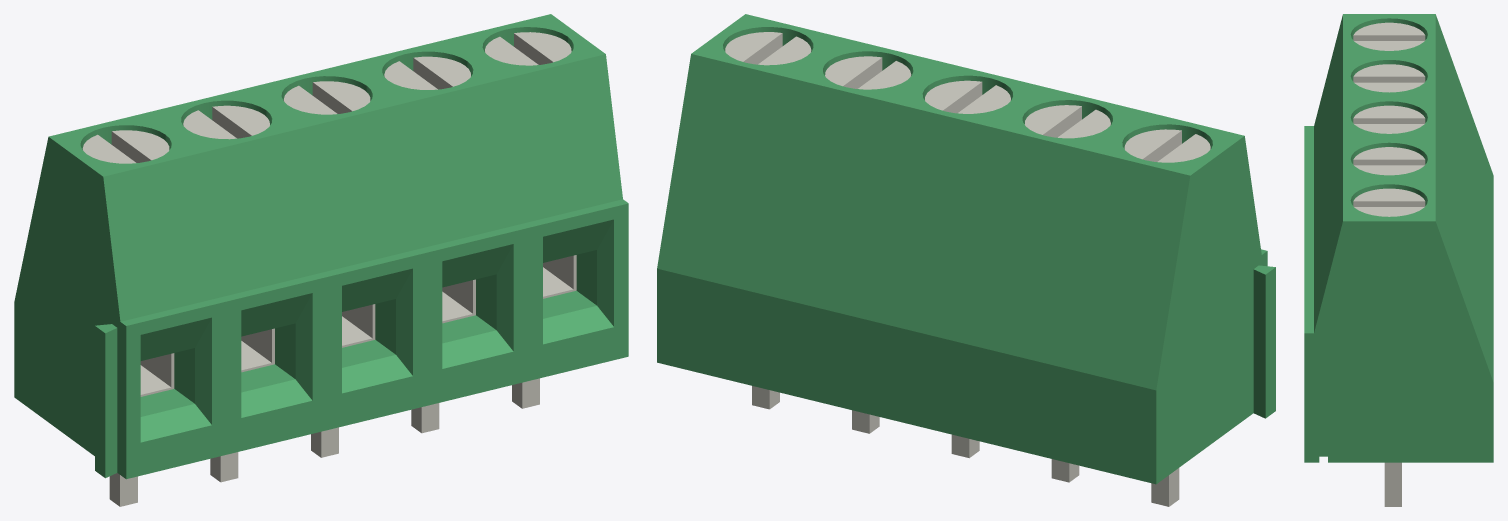
The model's file is kc-terminalblock_phoenix_mkds-1_5-5-5.08_1x05_p5.08mm_horizontal.glb.
The picture shows the model from 3 angles, left to right: view 1: azimuth 30°, elevation 25°; view 2: azimuth 150°, elevation 25°; view 3: azimuth 270°, elevation 25°; orthographic projection. The views are drawn at different scales.
Visible parts, largest first — view 1: 0.08333333333333333_0.4166666666666667_0.16666666666666666_0, 0.6666666666666666_0.6666666666666666_0.5833333333333334_0.8; view 2: 0.08333333333333333_0.4166666666666667_0.16666666666666666_0, 0.6666666666666666_0.6666666666666666_0.5833333333333334_0.8; view 3: 0.08333333333333333_0.4166666666666667_0.16666666666666666_0, 0.6666666666666666_0.6666666666666666_0.5833333333333334_0.8.
Boxes of the visible parts, x1=… form: 0.08333333333333333_0.4166666666666667_0.16666666666666666_0: x1=14, y1=14, x2=628, y2=479; 0.6666666666666666_0.6666666666666666_0.5833333333333334_0.8: x1=82, y1=32, x2=576, y2=506; 0.08333333333333333_0.4166666666666667_0.16666666666666666_0: x1=657, y1=14, x2=1275, y2=484; 0.6666666666666666_0.6666666666666666_0.5833333333333334_0.8: x1=725, y1=32, x2=1210, y2=506; 0.08333333333333333_0.4166666666666667_0.16666666666666666_0: x1=1304, y1=14, x2=1493, y2=462; 0.6666666666666666_0.6666666666666666_0.5833333333333334_0.8: x1=1353, y1=22, x2=1425, y2=506.
Size of the model in its own units: 2.61 by 1.73 by 0.98.
